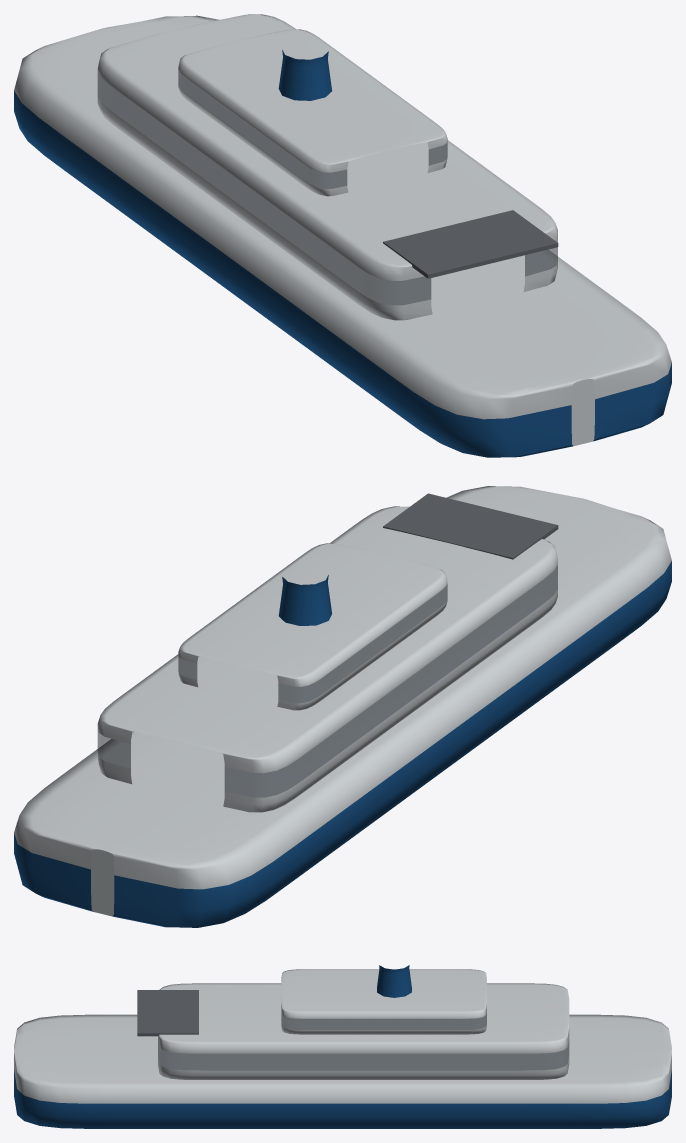
File: mobile.glb
The picture shows the model from 3 angles, top to bottom: view 1: azimuth 30°, elevation 25°; view 2: azimuth 150°, elevation 25°; view 3: azimuth 270°, elevation 25°; orthographic projection. The views are drawn at different scales.
Parts seen in each view (by area): view 1: transit.ferry; view 2: transit.ferry; view 3: transit.ferry.
Boxes of the visible parts, x1,y1,x2,y2 form: transit.ferry: (14,14,671,457); transit.ferry: (14,486,671,927); transit.ferry: (14,965,671,1128).
Size of the model in its own units: 9 by 7 by 32.
